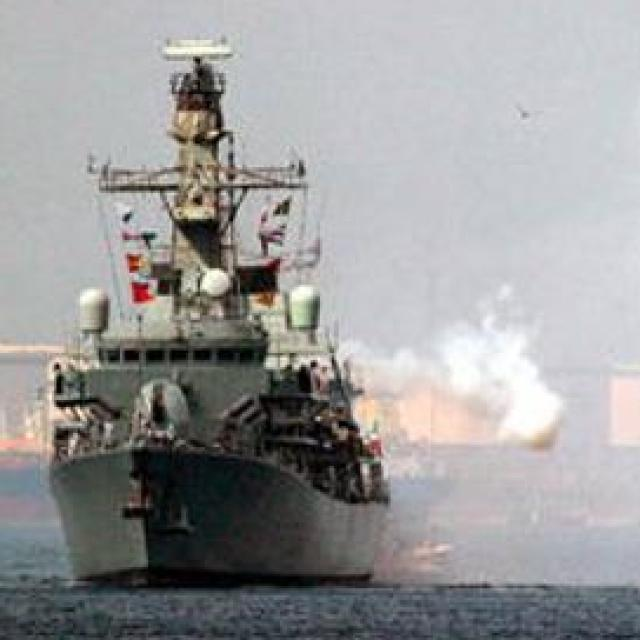navalvessels: (26, 28, 403, 586)
